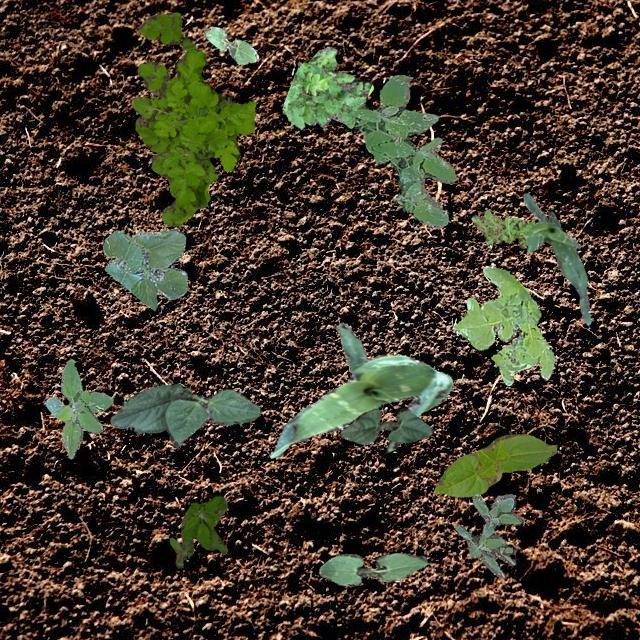crop: (268, 322, 452, 456), (110, 382, 258, 446), (522, 192, 590, 324), (434, 432, 556, 497), (102, 228, 186, 310), (318, 552, 428, 584), (338, 408, 432, 443), (204, 26, 258, 64)
weed: (130, 12, 254, 225), (354, 74, 454, 226), (452, 264, 554, 384), (282, 46, 372, 128), (44, 358, 112, 458), (454, 492, 524, 576), (168, 496, 226, 568), (470, 208, 534, 248)
